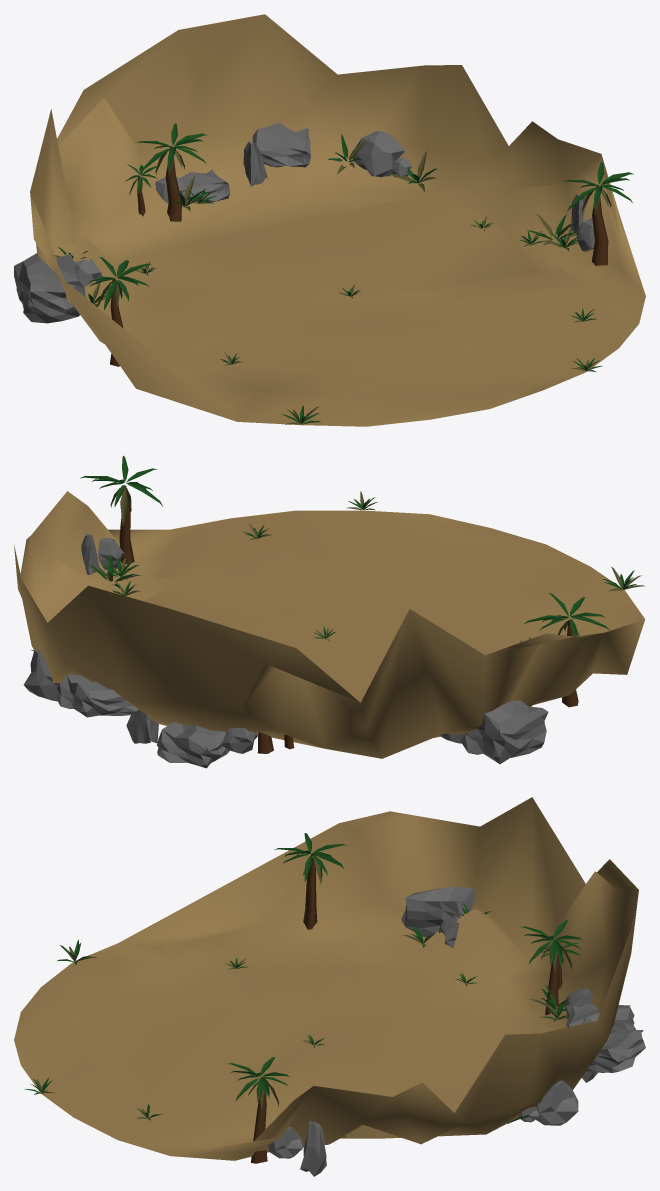
File: Dest_Desert_Field.FBX
The picture shows the model from 3 angles, top to bottom: view 1: azimuth 30°, elevation 25°; view 2: azimuth 150°, elevation 25°; view 3: azimuth 270°, elevation 25°; orthographic projection. The views are drawn at different scales.
Parts seen in each view (by area): view 1: GeoSphere001; view 2: GeoSphere001; view 3: GeoSphere001.
Part boxes in pixels (left/top/right/bottom): GeoSphere001: left=14, top=14, right=645, bottom=426; GeoSphere001: left=14, top=455, right=645, bottom=768; GeoSphere001: left=14, top=797, right=645, bottom=1176.
Bounding box in the file's own units: 300 × 88.88 × 301.
